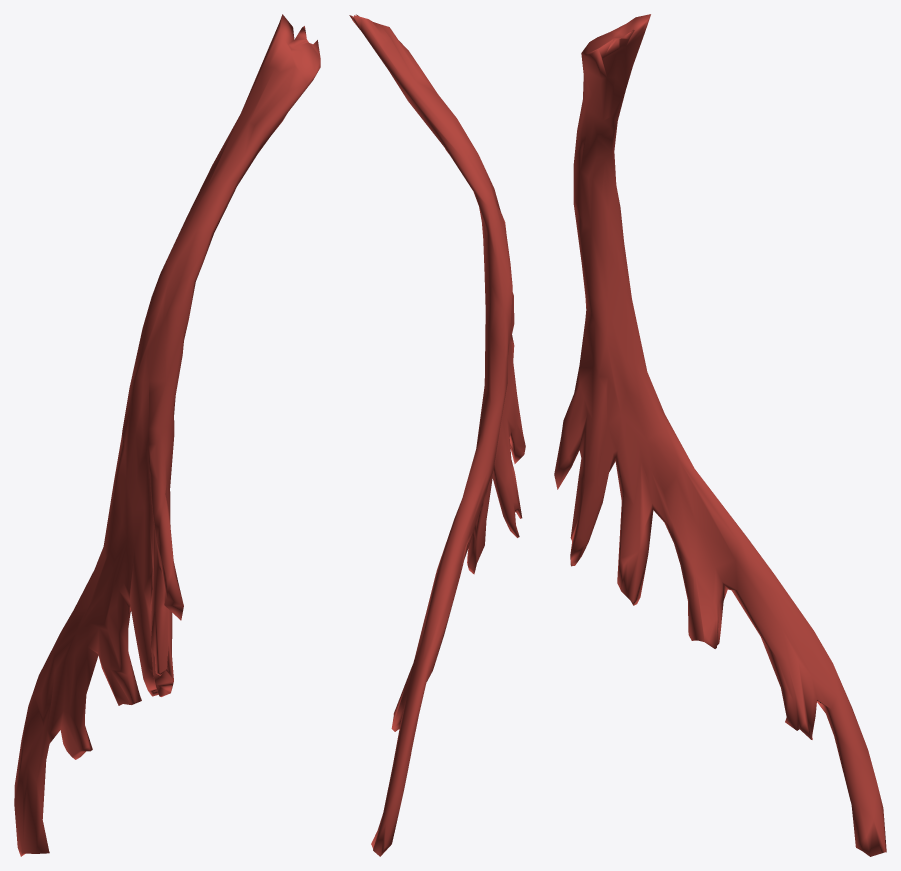
File: musculos-longissimus-capitis-muscle-l.glb
The picture shows the model from 3 angles, left to right: view 1: azimuth 30°, elevation 25°; view 2: azimuth 150°, elevation 25°; view 3: azimuth 270°, elevation 25°; orthographic projection. The views are drawn at different scales.
Visible parts, largest first — view 1: Longissimus capitis muscle.l; view 2: Longissimus capitis muscle.l; view 3: Longissimus capitis muscle.l.
Part boxes in pixels (<box>): Longissimus capitis muscle.l: <box>14,14,320,856</box>; Longissimus capitis muscle.l: <box>349,14,525,856</box>; Longissimus capitis muscle.l: <box>554,14,886,856</box>.
Bounding box in the file's own units: 0.0351 × 0.157 × 0.0519.
